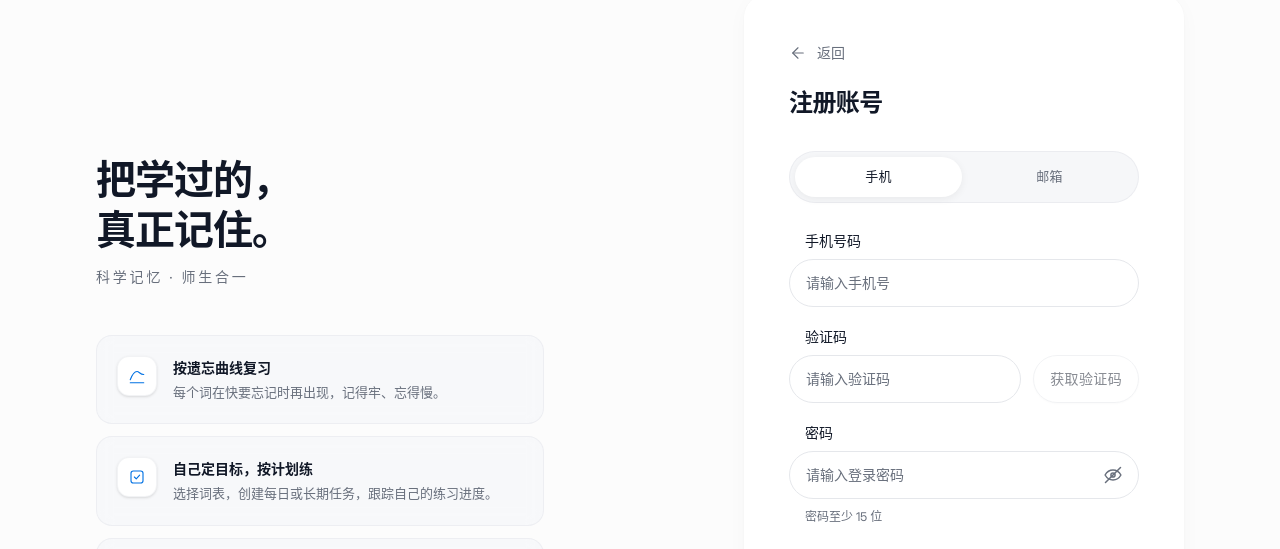
Test case: RegisterForm — 手机号验证码注册 › 注册错误 user already exists 映射为中文提示
Step 1. Type "13800138000" into the field with placeholder "请输入手机号" → (964, 283), box [789,259,1139,307]
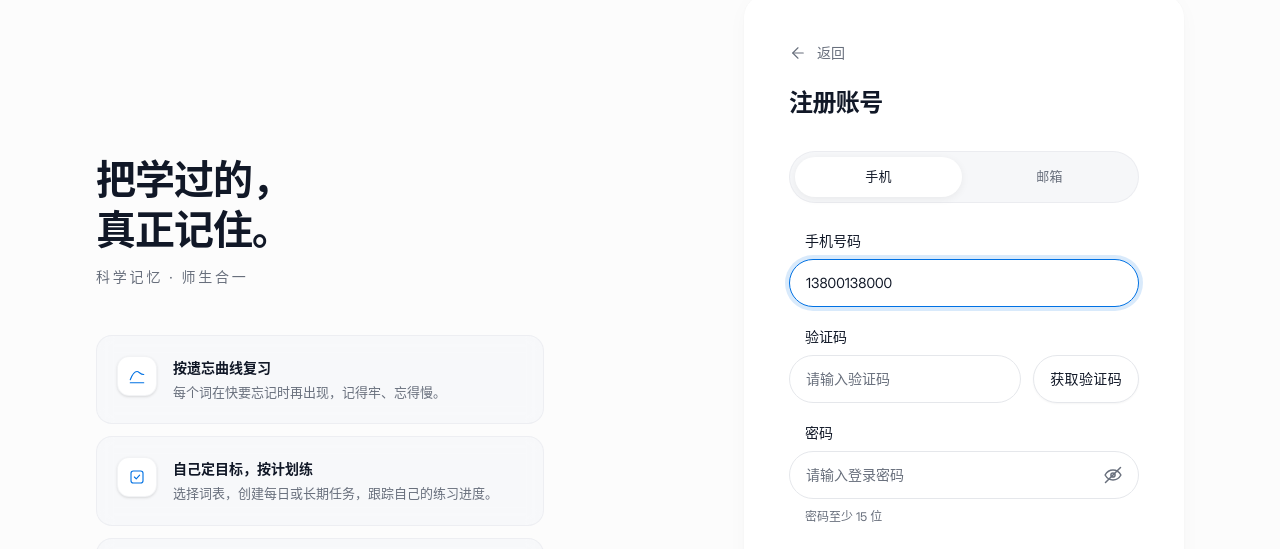
Step 2. Type "123456" into the field with placeholder "请输入验证码" → (905, 379), box [789,355,1021,403]
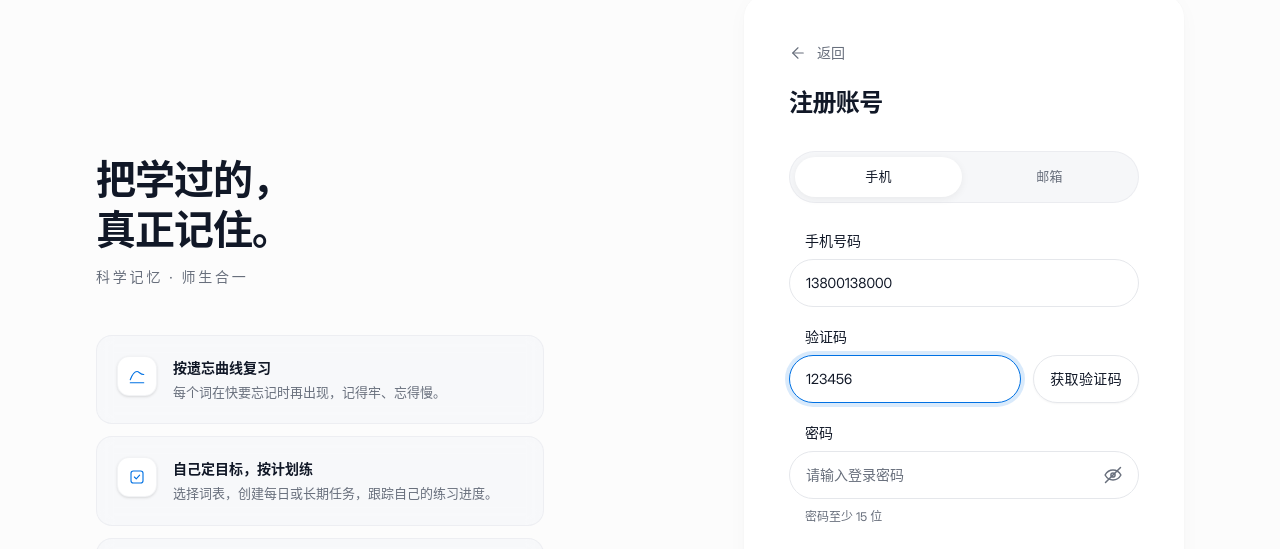
Step 3. Type " Mixed!密码🙂 river cloud " into the password field with placeholder "请输入登录密码" → (964, 475), box [789,451,1139,499]
(page scrolled)
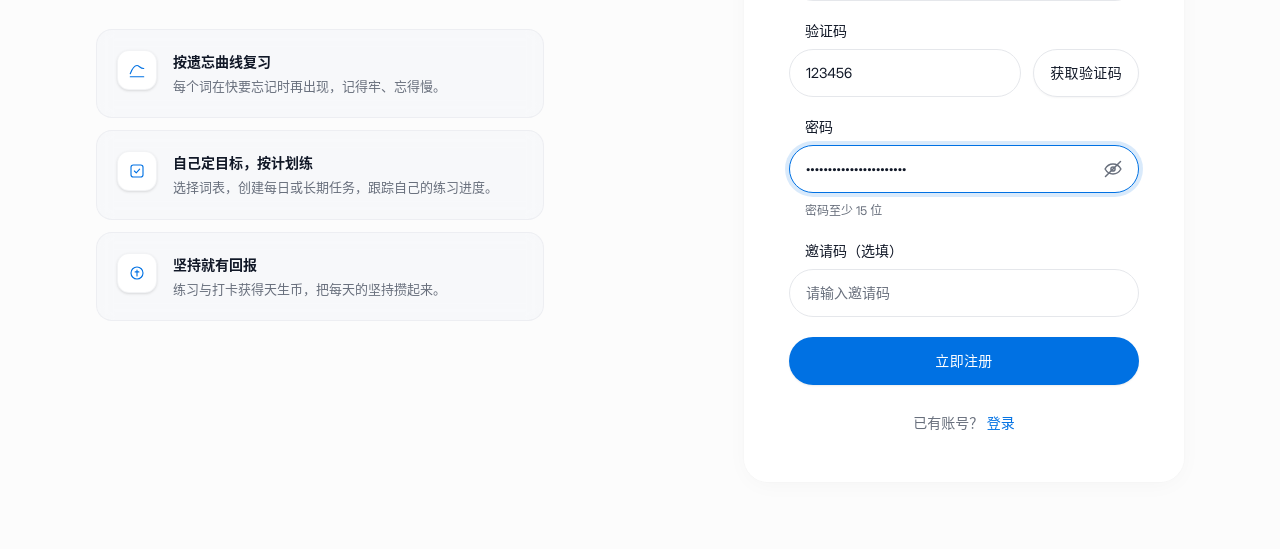
Step 4. Click the button "立即注册" → (964, 361), box [789,337,1139,385]
(page scrolled)
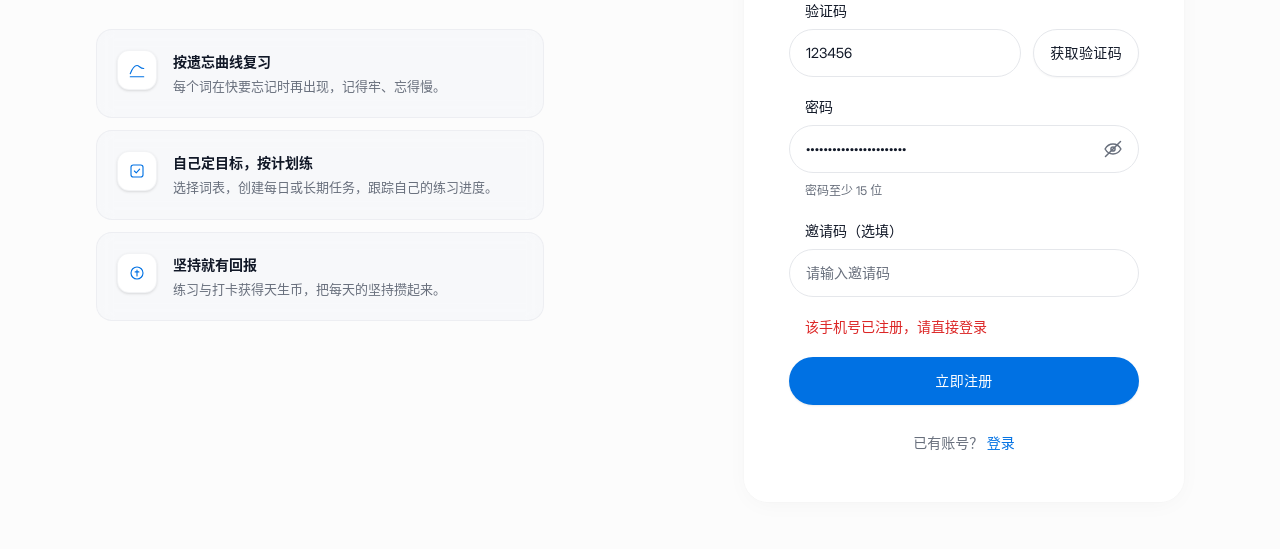
Result: the button "立即注册" is enabled at [789,357,1139,405]
Result: the text "该手机号已注册，请直接登录" is shown at [805,318,987,336]
